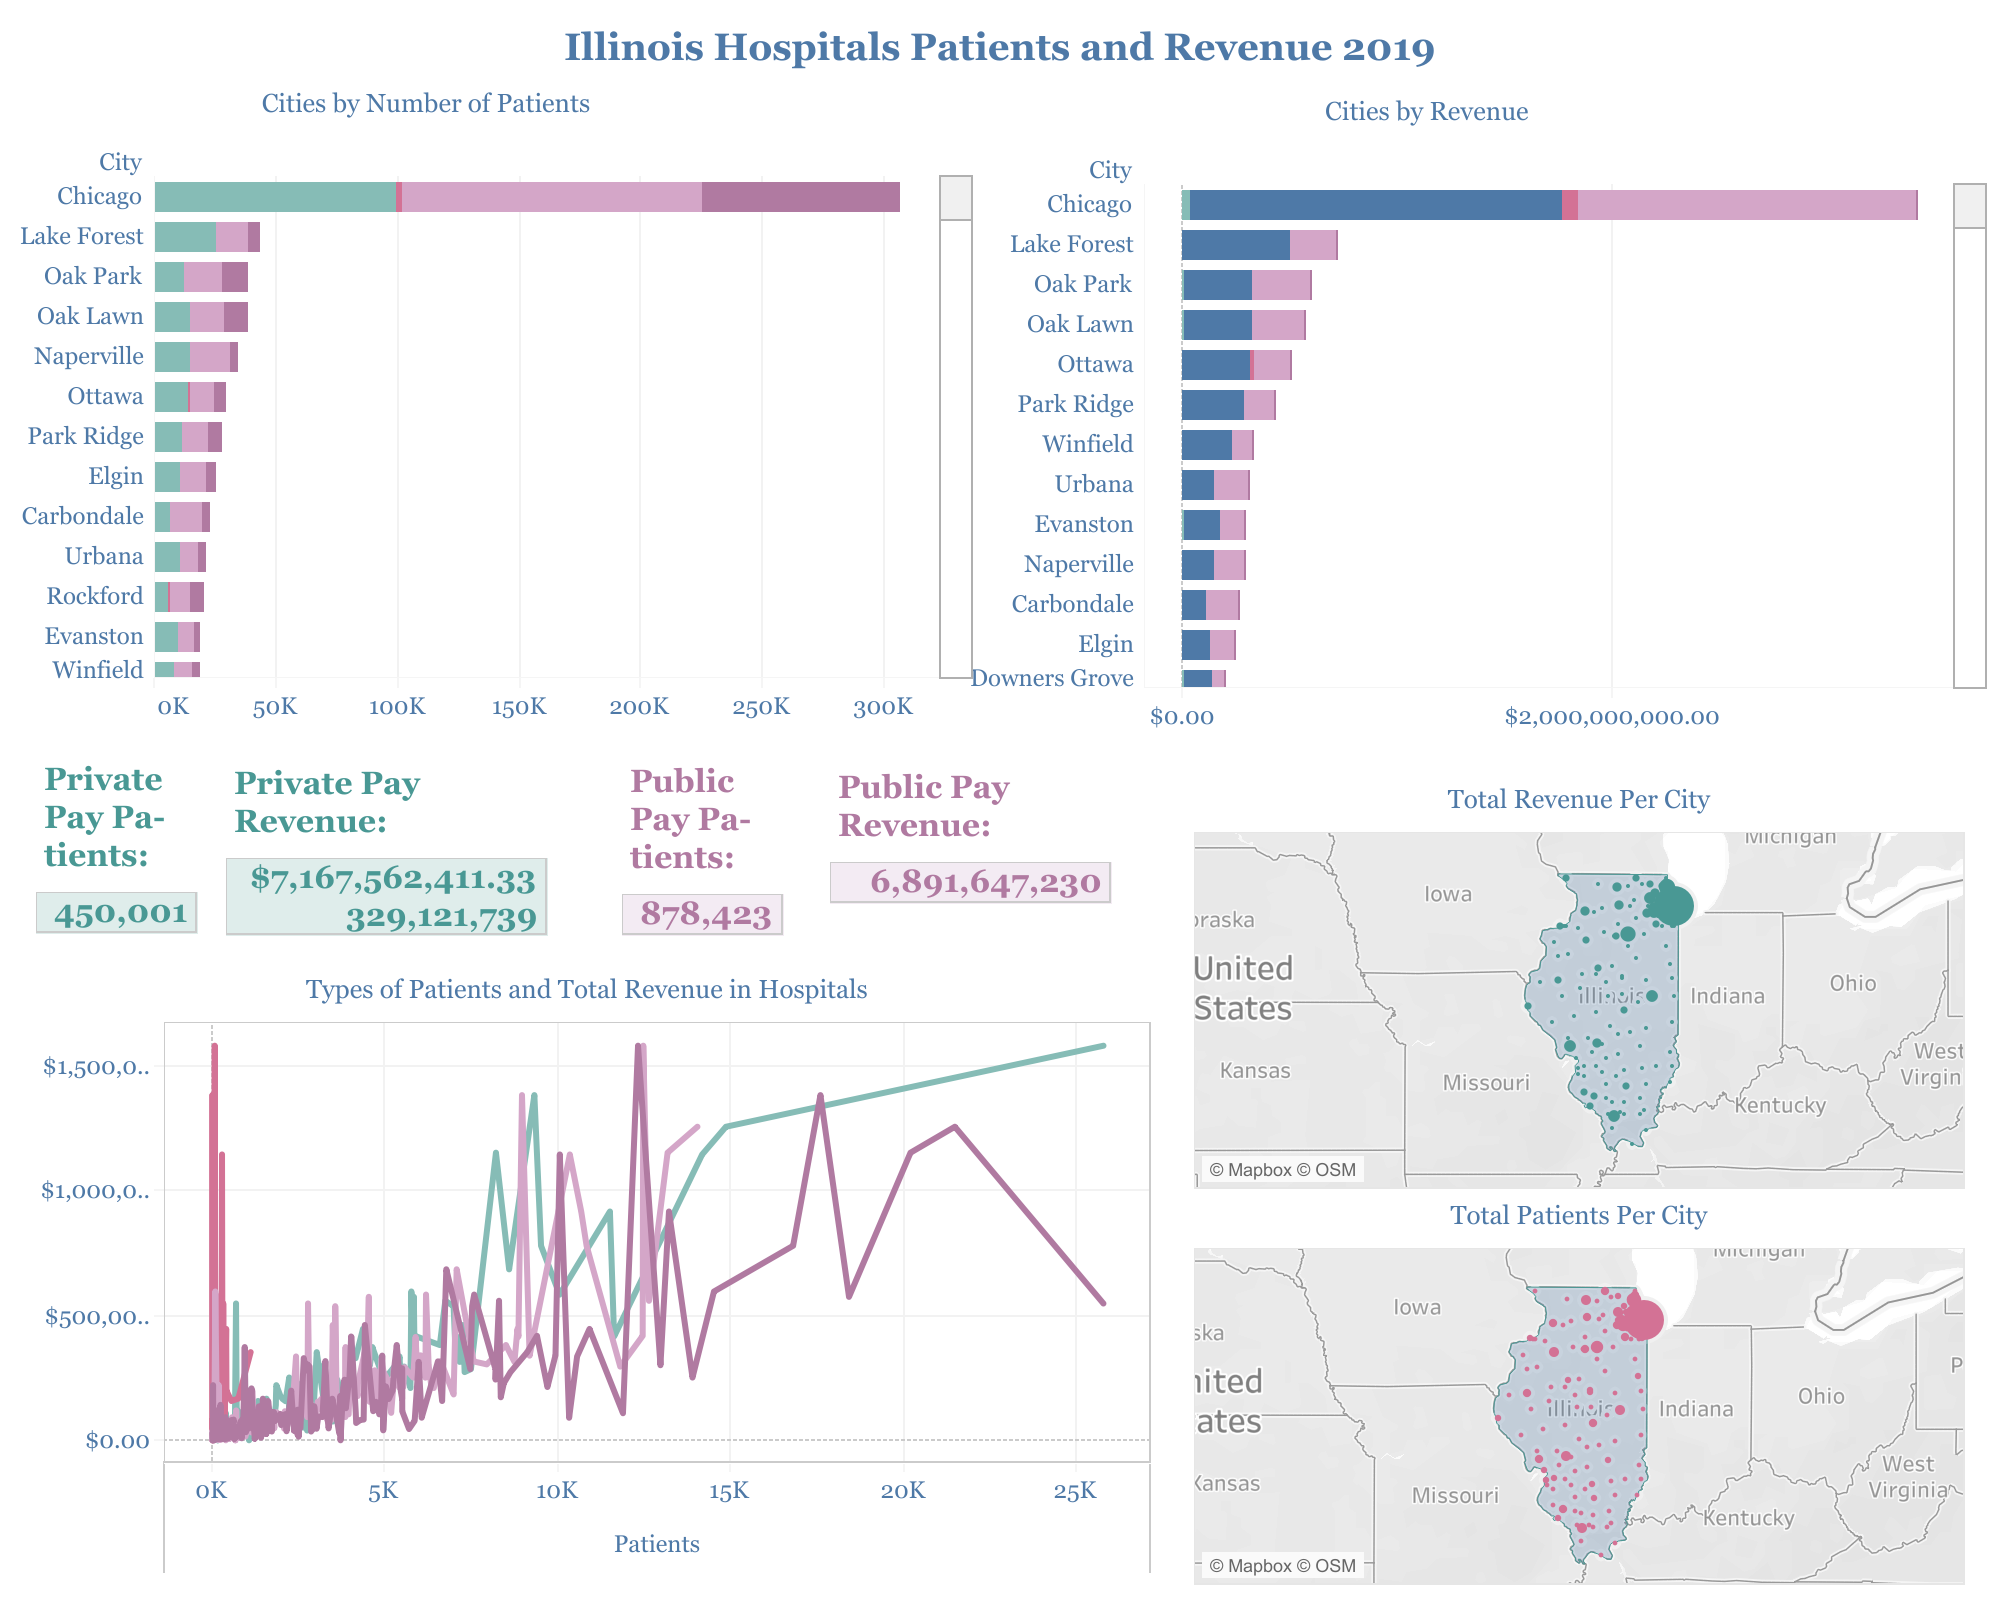

The page's visual inventory and layout, read from the dashboard file:
{"tool":"tableau","page":{"name":"Illinois Hospital Revenue and Patients","canvas":[1000,800],"ordinal":0},"visuals":[{"type":"title","box":[8,8,984,31]},{"type":"worksheet","title":"Cities by Revenue","mark":"Bar","rows":["City"],"box":[452,42,542,332]},{"type":"text","box":[436,255,100,30]},{"type":"worksheet","title":"Private Pay Patients","mark":"Automatic","box":[18,374,93,101]},{"type":"worksheet","title":"Public Pay Patients","mark":"Automatic","box":[311,375,112,98]},{"type":"worksheet","title":"Private Pay Revenue","mark":"Automatic","box":[113,376,175,108]},{"type":"worksheet","title":"Public Pay Revenue","mark":"Automatic","box":[415,378,333,183]},{"type":"worksheet","title":"Geographic Revenue Map","mark":"Multipolygon","box":[597,386,386,209]},{"type":"worksheet","title":"Patient Type vs Revenue","mark":"Line","rows":["Total Revenue"],"cols":["Medicaid Patients"],"box":[11,481,565,306]},{"type":"worksheet","title":"Geographic Patients Map","mark":"Multipolygon","box":[597,594,386,199]}]}

Visuals, with their boxes in screenshot pixels (x1, y1, x2, y2), scaled from the page's 1000x800 canvas onto the 2000x1600 screenshot:
title: box=[16, 16, 1984, 78]
"Cities by Revenue" worksheet (Bar marks): box=[904, 84, 1988, 748]
text: box=[872, 510, 1072, 570]
"Private Pay Patients" worksheet: box=[36, 748, 222, 950]
"Public Pay Patients" worksheet: box=[622, 750, 846, 946]
"Private Pay Revenue" worksheet: box=[226, 752, 576, 968]
"Public Pay Revenue" worksheet: box=[830, 756, 1496, 1122]
"Geographic Revenue Map" worksheet (Multipolygon marks): box=[1194, 772, 1966, 1190]
"Patient Type vs Revenue" worksheet (Line marks): box=[22, 962, 1152, 1574]
"Geographic Patients Map" worksheet (Multipolygon marks): box=[1194, 1188, 1966, 1586]
